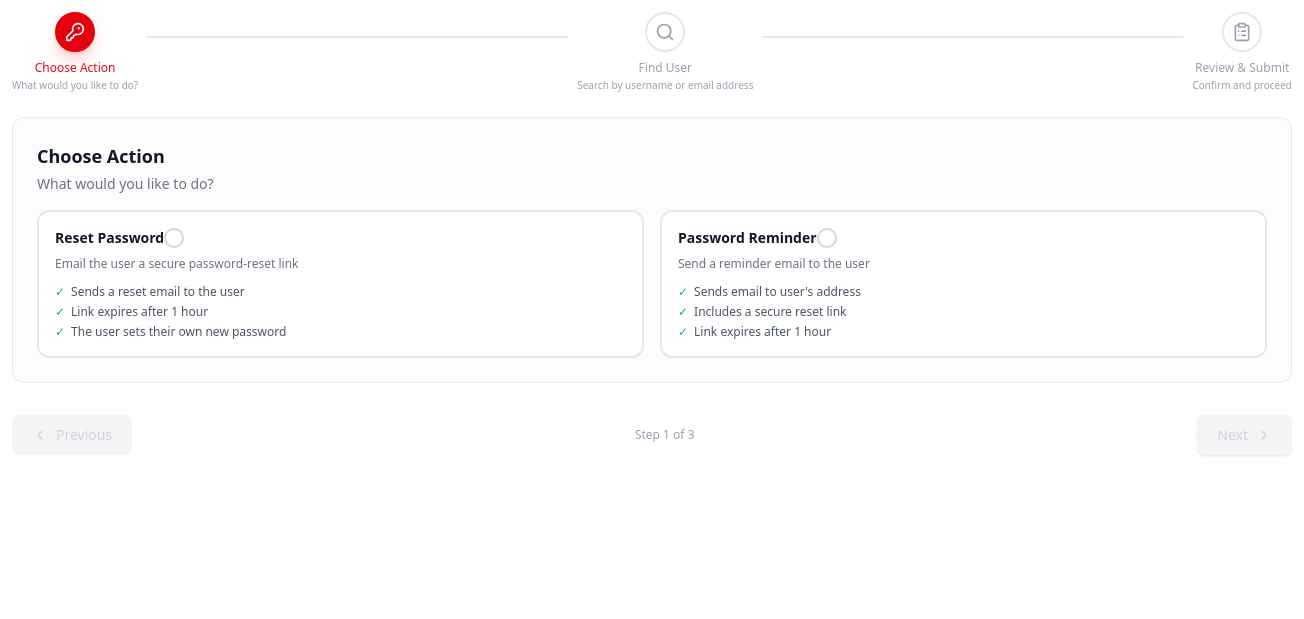
PasswordForm Component › Step 3 — Reset Password Flow › shows the reset-email info banner
Click the text "Reset Password": (110,238) [55,228,164,248]
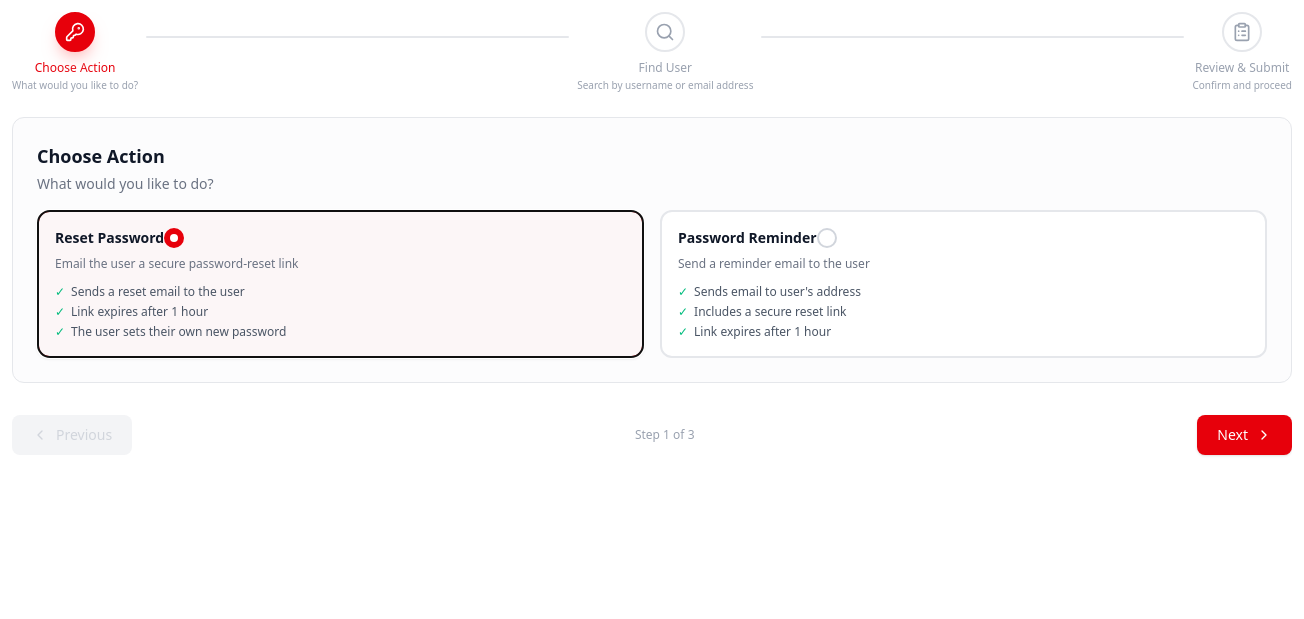
Click the button "Next": (1245,435) [1197,415,1292,455]
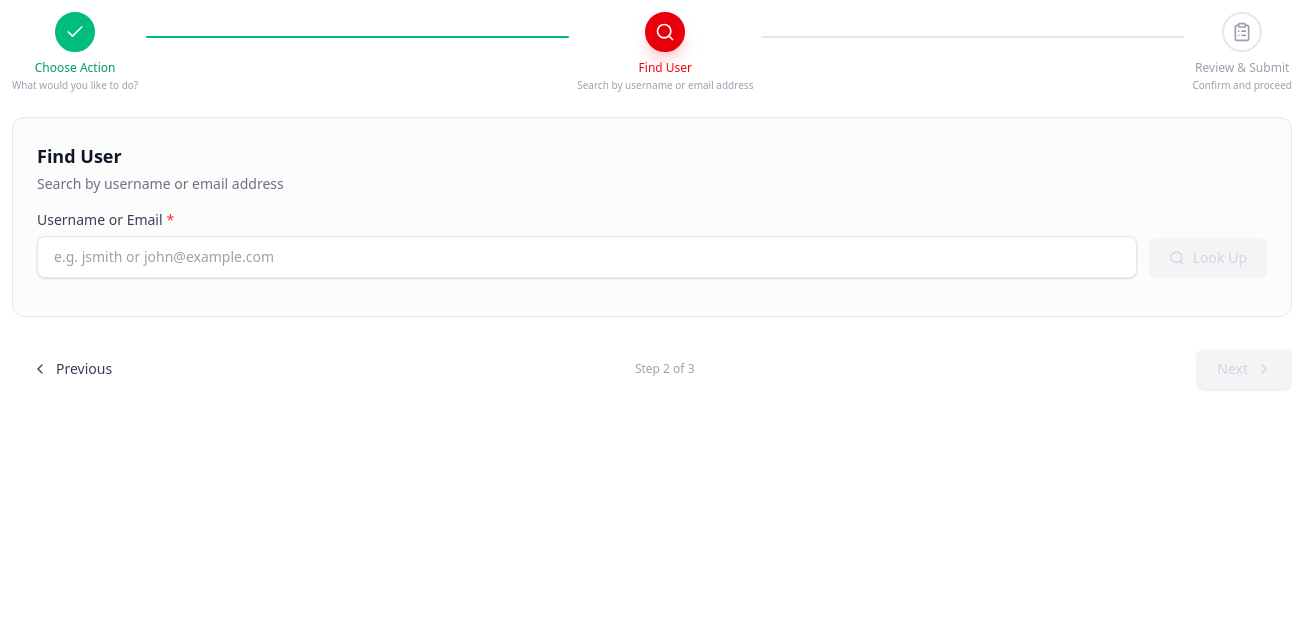
In the field with placeholder "e.g. jsmith or john@example.com": (587,257) [37,236,1137,278], type "bob"
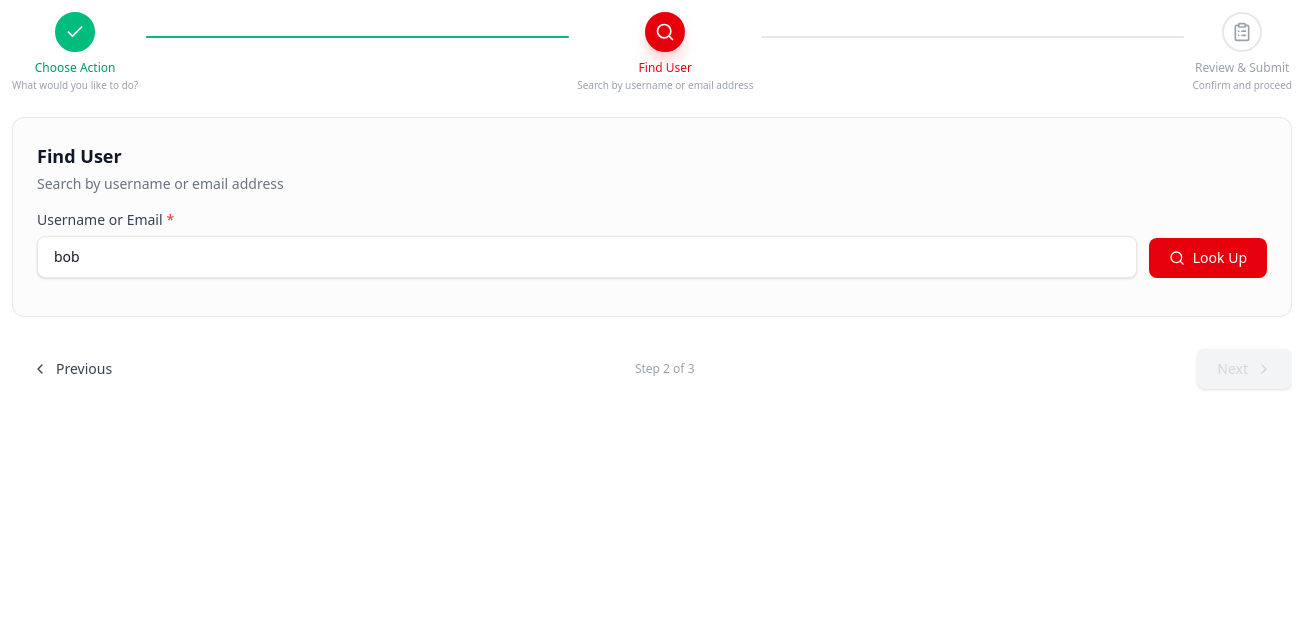
Click the button "Look Up": (1208,258) [1149,238,1267,278]
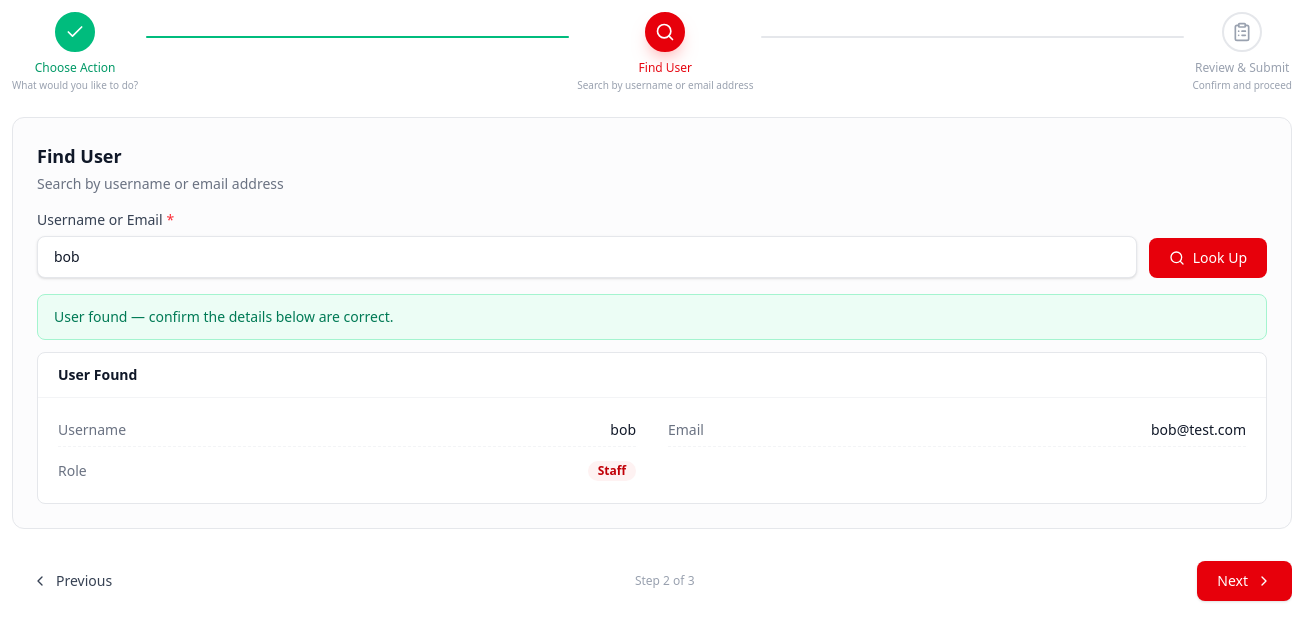
Now the text "bob" is shown, box [610,420,636,440]
Click the button "Next": (1245,581) [1197,561,1292,601]
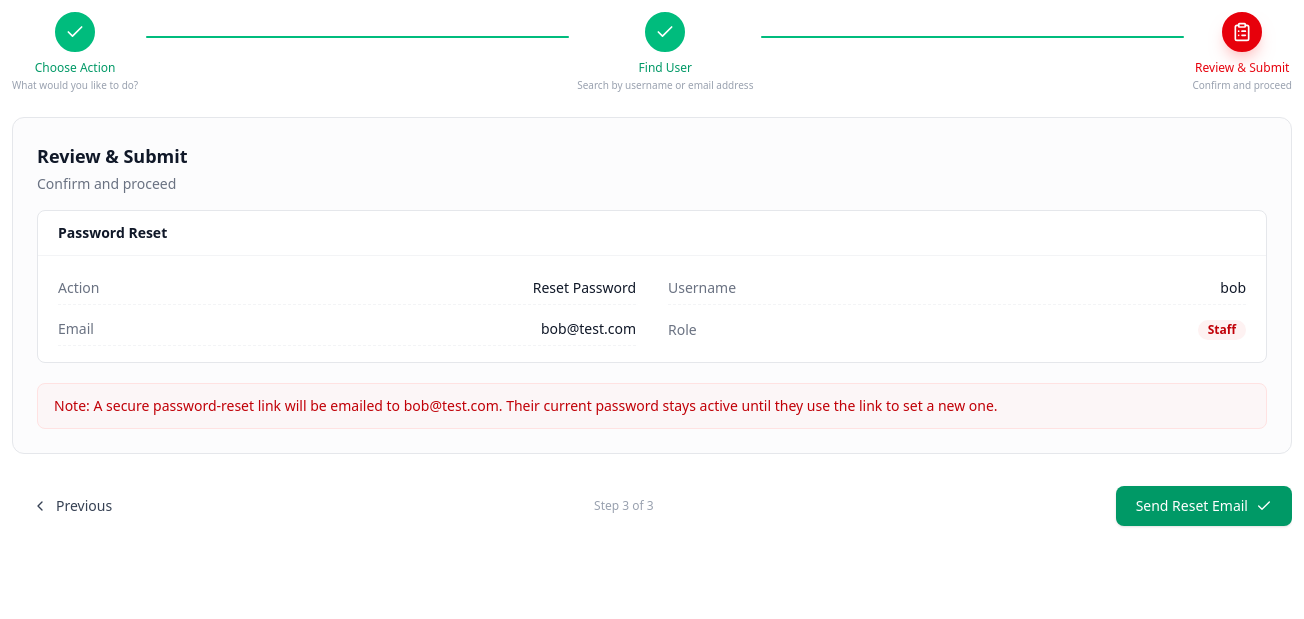
Now the text "password-reset link will be emailed" is shown, box [90,396,400,415]
